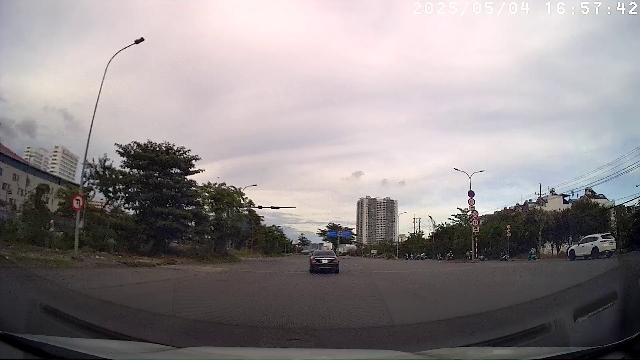127-toc-do-toi-da-60: (472, 218, 478, 226)
127-toc-do-toi-da-80: (468, 198, 476, 206)
130-cam-dung-va-do-xe: (468, 190, 474, 197)
